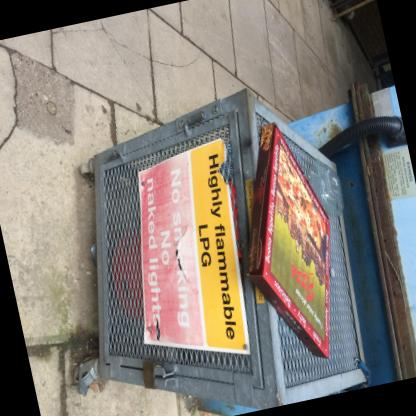Paper: (246, 123, 328, 358)
Waste: (308, 158, 343, 216)
